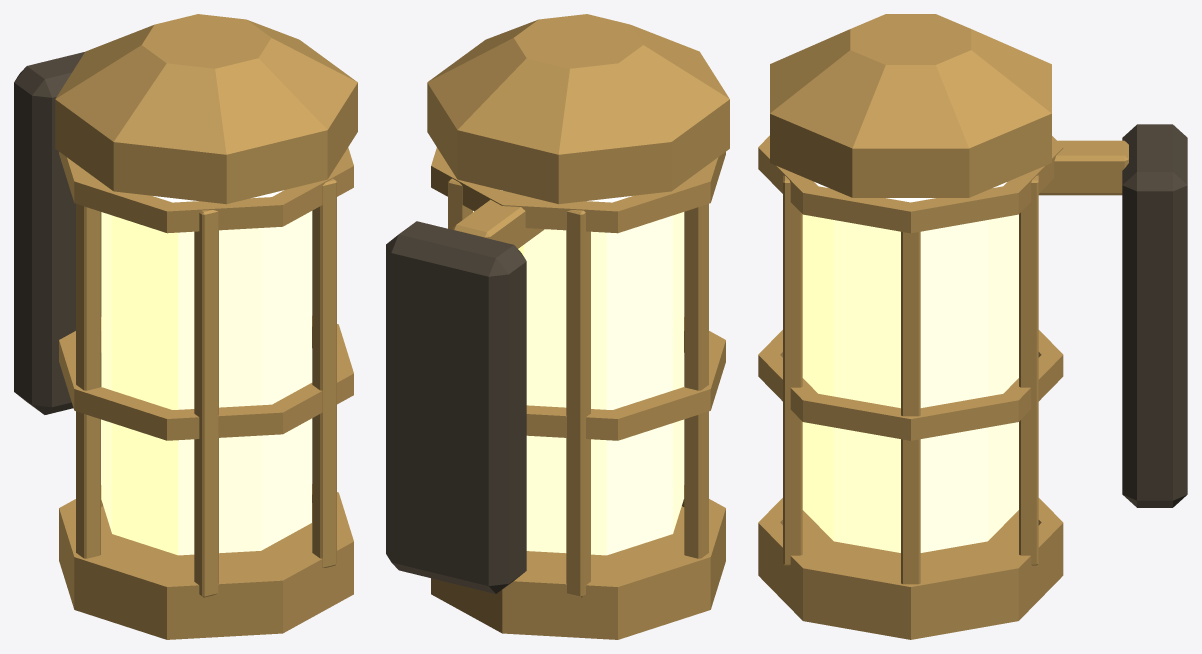
File: caged_lamp_03.glb
3 renders of one model, left to right at view 1: azimuth 30°, elevation 25°; view 2: azimuth 150°, elevation 25°; view 3: azimuth 270°, elevation 25°, orthographic.
Visible parts, largest first — view 1: Glow, Cap, Backplate, Base, Cage_4, Cage_band_001, Cage_5, Cage_band_002, Cage_3, Cage_band; view 2: Backplate, Cap, Glow, Base, Cage_2, Cage_3, Cage_band_002, Cage_band_001, Cage_band, Bracket, Cage_1; view 3: Glow, Cap, Backplate, Base, Cage_band_001, Cage_band, Cage_band_002, Cage_1, Cage_5, Cage_0, Bracket.
Part boxes in pixels (left/top/right/bottom): Glow: left=101, top=190, right=311, bottom=555; Cap: left=55, top=14, right=357, bottom=204; Backplate: left=14, top=52, right=101, bottom=414; Base: left=59, top=503, right=353, bottom=639; Cage_4: left=194, top=210, right=218, bottom=597; Cage_band_001: left=59, top=316, right=353, bottom=440; Cage_5: left=312, top=178, right=336, bottom=567; Cage_band_002: left=59, top=147, right=353, bottom=233; Cage_3: left=76, top=176, right=100, bottom=558; Cage_band: left=59, top=484, right=353, bottom=608; Backplate: left=386, top=221, right=526, bottom=593; Cap: left=427, top=14, right=729, bottom=204; Glow: left=473, top=190, right=683, bottom=555; Base: left=431, top=506, right=725, bottom=639; Cage_2: left=566, top=210, right=590, bottom=597; Cage_3: left=684, top=204, right=708, bottom=558; Cage_band_002: left=431, top=147, right=725, bottom=233; Cage_band_001: left=526, top=317, right=725, bottom=440; Cage_band: left=487, top=485, right=725, bottom=604; Bracket: left=452, top=190, right=544, bottom=248; Cage_1: left=448, top=178, right=472, bottom=229; Glow: left=802, top=182, right=1018, bottom=552; Cap: left=770, top=14, right=1051, bottom=197; Backplate: left=1122, top=124, right=1187, bottom=507; Base: left=758, top=510, right=1063, bottom=639; Cage_band_001: left=758, top=330, right=1063, bottom=440; Cage_band: left=758, top=498, right=1063, bottom=608; Cage_band_002: left=758, top=135, right=1063, bottom=233; Cage_1: left=1019, top=175, right=1038, bottom=565; Cage_5: left=783, top=175, right=802, bottom=565; Cage_0: left=901, top=231, right=920, bottom=584; Bracket: left=1038, top=140, right=1128, bottom=195.
Bounding box in the file's own units: 0.2912 × 0.5642 × 0.4098.
